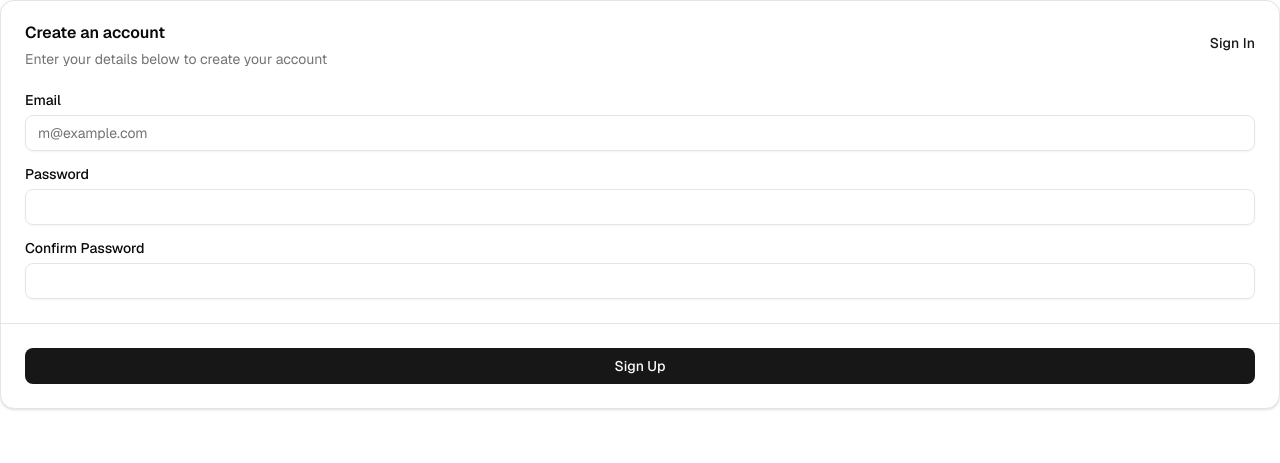
Test: SignUpForm › shows server error when signUpAction returns error
Type "existing@example.com" into the field labelled "Email" at coordinates (640, 133), box [25,115,1255,151]
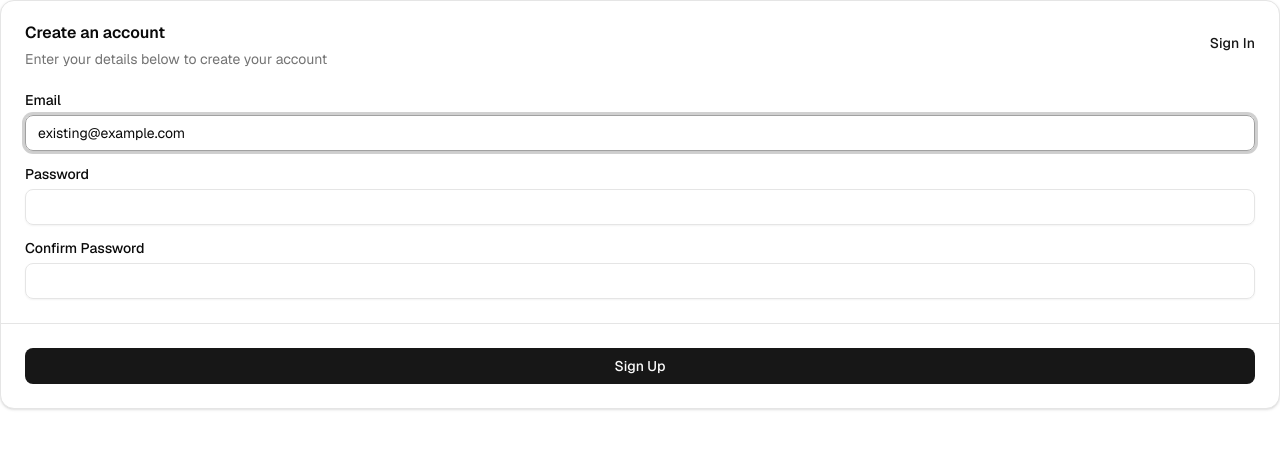
Type "password123" into the password field labelled "Password" at coordinates (640, 207), box [25,189,1255,225]
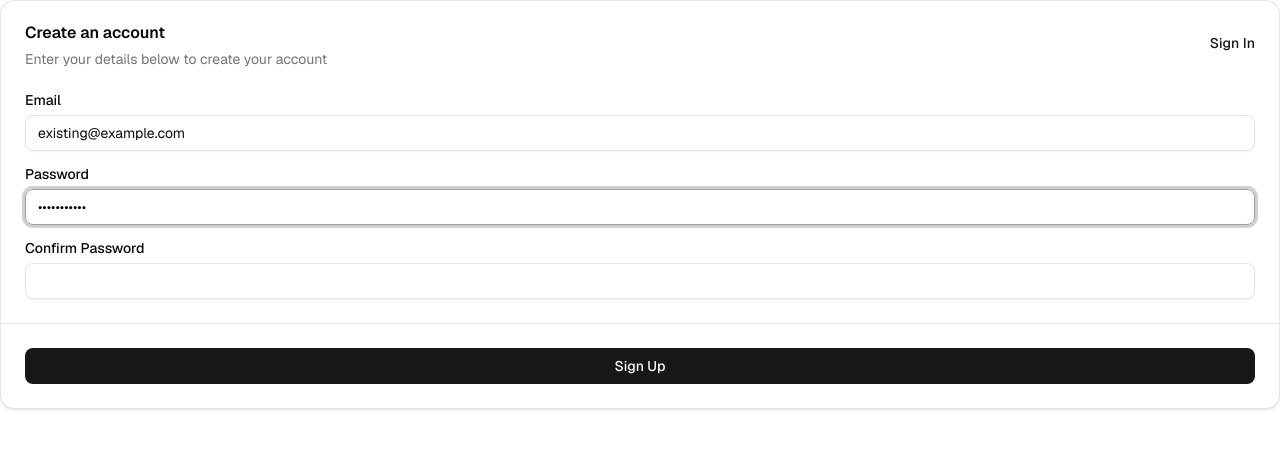
Type "password123" into the password field labelled "Confirm Password" at coordinates (640, 281), box [25,263,1255,299]
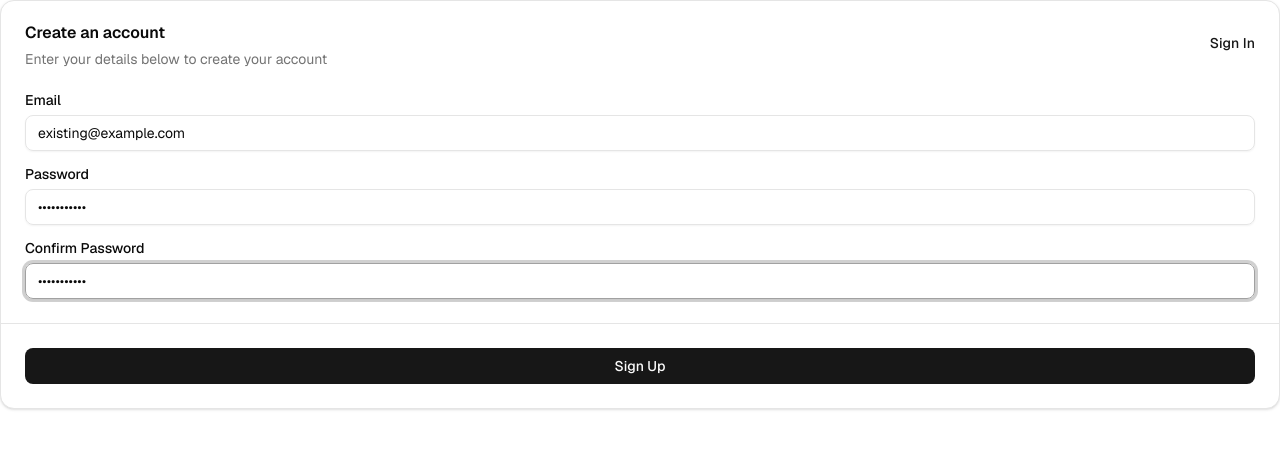
Click the button "Sign Up" at coordinates (640, 366), box [25,348,1255,384]
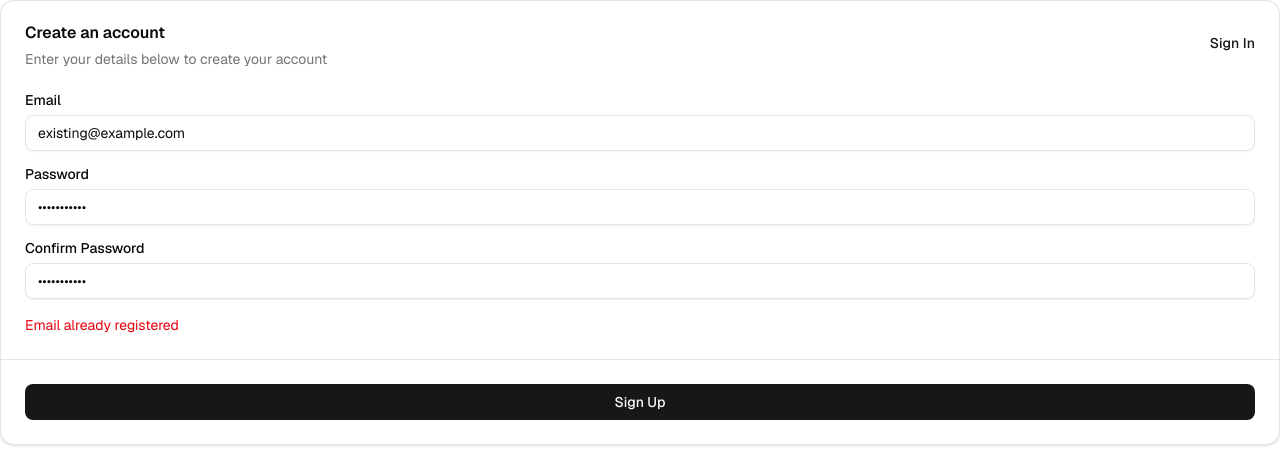
Check: the text "Email already registered" is shown, box [25,316,179,334]
